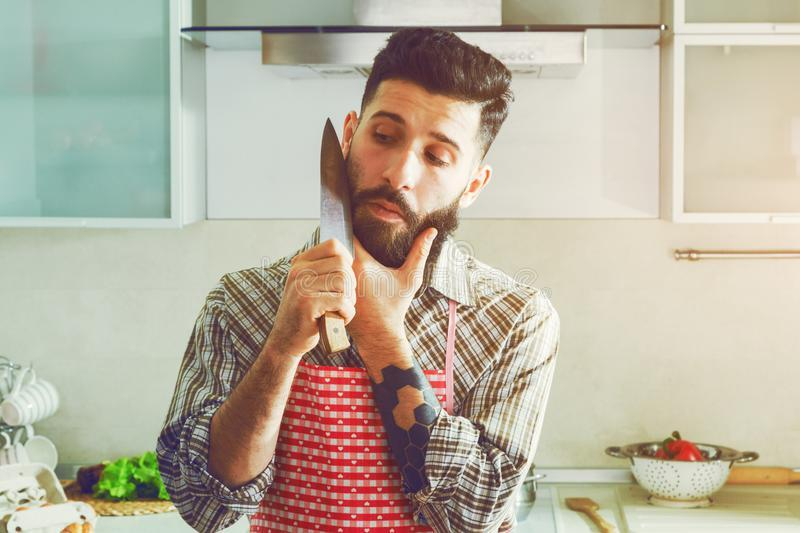criminal: (153, 25, 566, 533)
weapon: (313, 114, 358, 357)
